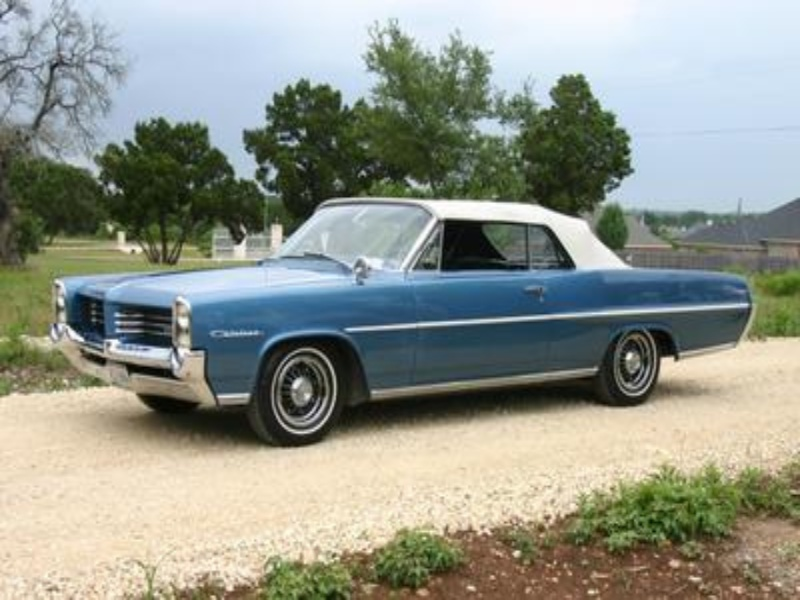car: (50, 196, 755, 447)
